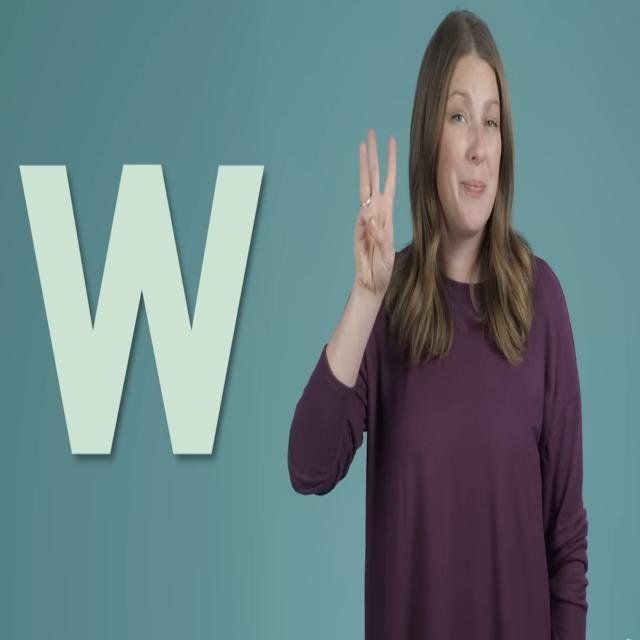W: (342, 113, 414, 314)
